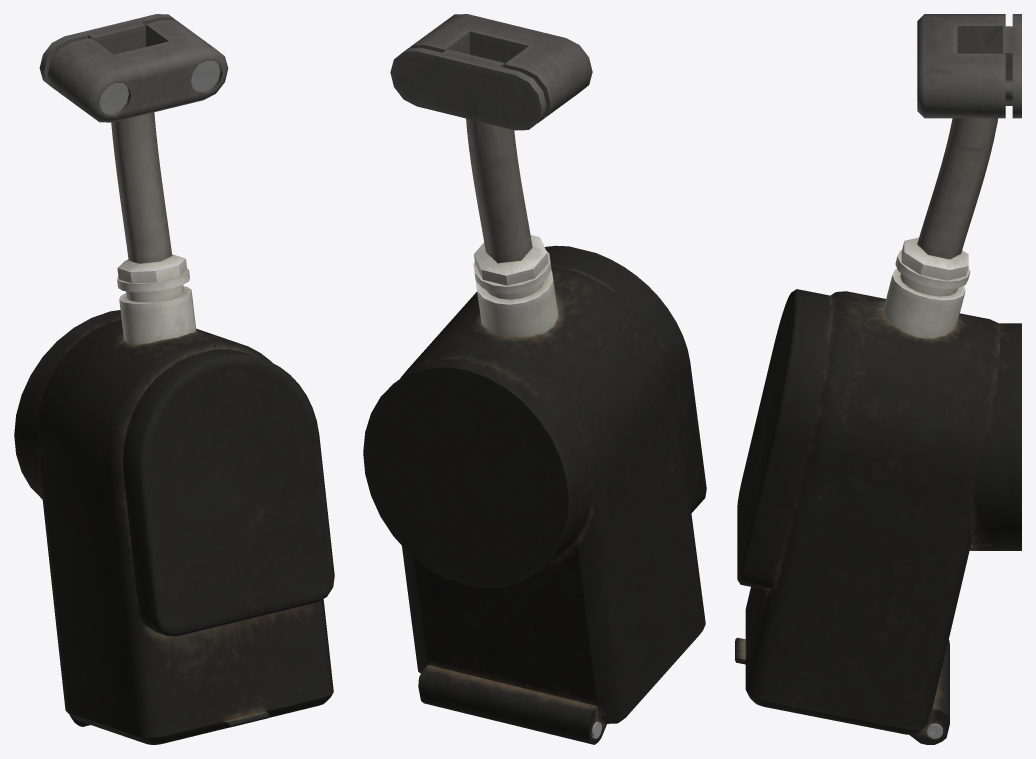
Rendered from cable_plug_covered_2.glb.
The picture shows the model from 3 angles, left to right: view 1: azimuth 30°, elevation 25°; view 2: azimuth 150°, elevation 25°; view 3: azimuth 270°, elevation 25°; orthographic projection. The views are drawn at different scales.
Visible parts, largest first — view 1: cable_plug_covered_2.001; view 2: cable_plug_covered_2.001; view 3: cable_plug_covered_2.001.
Part boxes in pixels (bbox=[...]): cable_plug_covered_2.001: bbox=[14, 14, 334, 744]; cable_plug_covered_2.001: bbox=[363, 14, 706, 744]; cable_plug_covered_2.001: bbox=[735, 14, 1021, 744].
Size of the model in its own units: 0.0567 by 0.1825 by 0.0712.
1 material, 1 textured.
